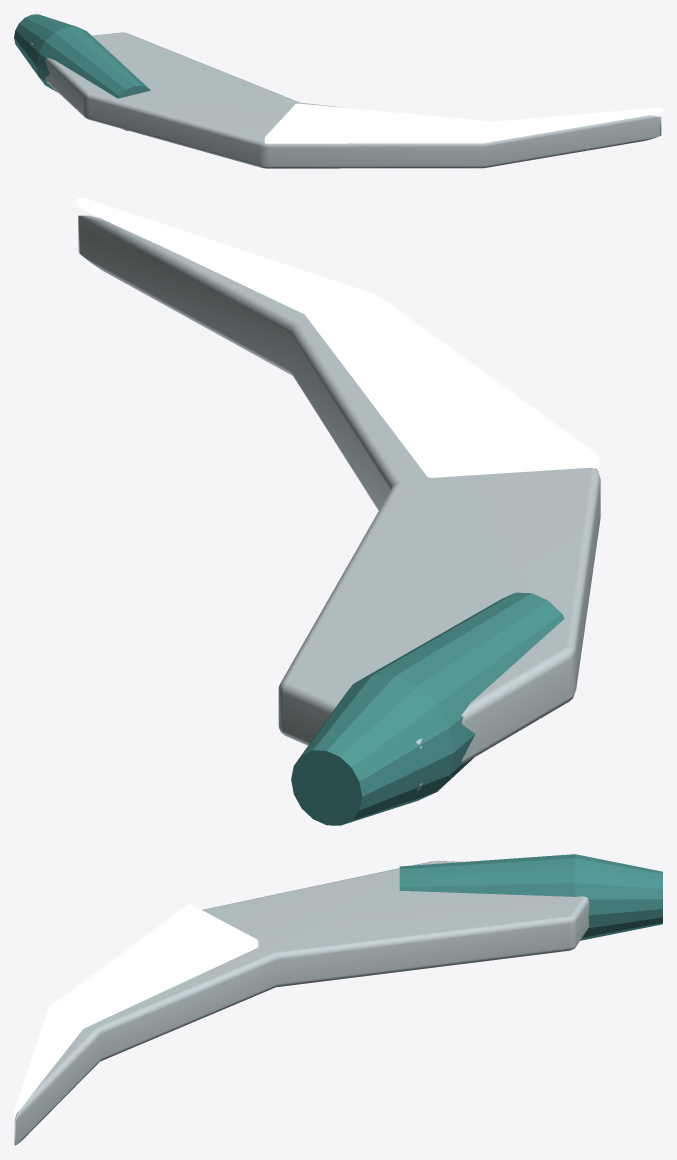
Rendered from blade.glb.
3 renders of one model, top to bottom at view 1: azimuth 30°, elevation 25°; view 2: azimuth 150°, elevation 25°; view 3: azimuth 270°, elevation 25°, orthographic. The views are drawn at different scales.
Visible parts, largest first — view 1: blade / body / Brushed silver ceramic, blade / body / blade identity light, blade / body / blade dark structure; view 2: blade / body / Brushed silver ceramic, blade / body / blade identity light, blade / body / blade dark structure; view 3: blade / body / Brushed silver ceramic, blade / body / blade identity light, blade / body / blade dark structure.
Part boxes in pixels (bbox=[...]): blade / body / Brushed silver ceramic: bbox=[30, 32, 661, 168]; blade / body / blade identity light: bbox=[264, 103, 662, 143]; blade / body / blade dark structure: bbox=[14, 14, 150, 130]; blade / body / Brushed silver ceramic: bbox=[78, 215, 600, 790]; blade / body / blade identity light: bbox=[76, 197, 599, 477]; blade / body / blade dark structure: bbox=[291, 592, 564, 825]; blade / body / Brushed silver ceramic: bbox=[14, 860, 589, 1145]; blade / body / blade identity light: bbox=[14, 904, 258, 1115]; blade / body / blade dark structure: bbox=[399, 854, 662, 940].
Bounding box in the file's own units: 34.88 × 5 × 36.98.
